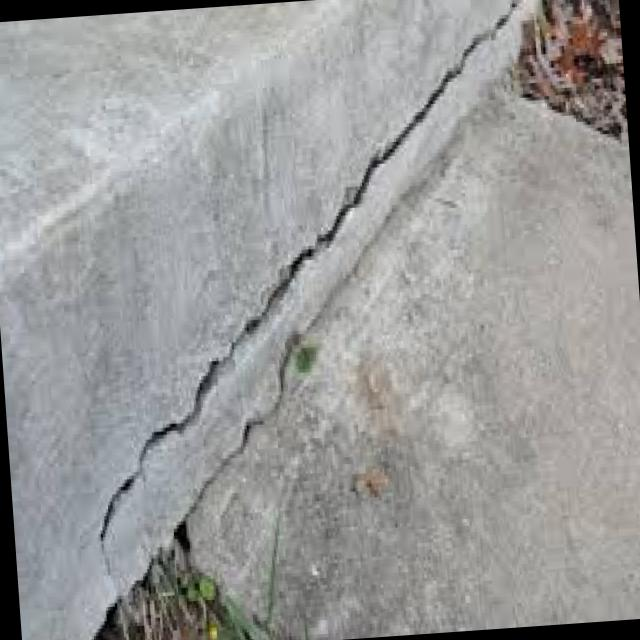crack: (64, 0, 566, 550), (157, 201, 418, 538)
